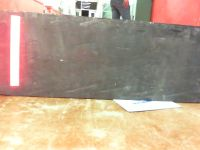switch: (10, 15, 20, 86)
